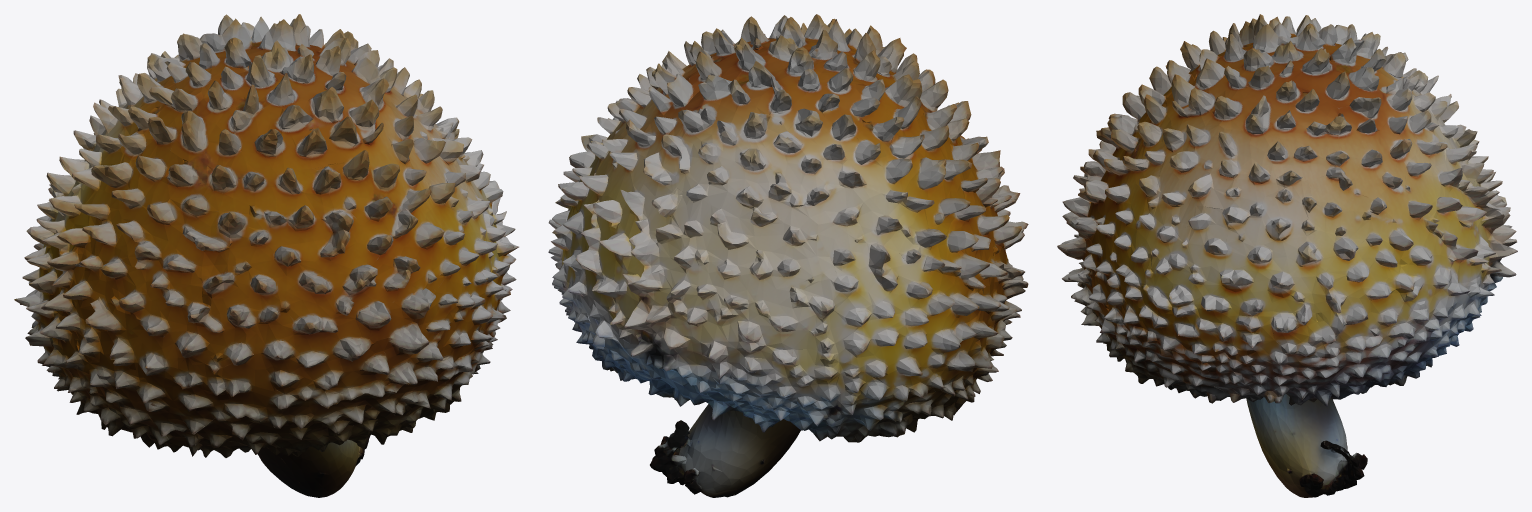
3 renders of one model, left to right at view 1: azimuth 30°, elevation 25°; view 2: azimuth 150°, elevation 25°; view 3: azimuth 270°, elevation 25°, orthographic. The views are drawn at different scales.
Parts seen in each view (by area): view 1: world; view 2: world; view 3: world.
Part boxes in pixels (box(x1,y1,x2,y2)): world: box(14, 14, 518, 497); world: box(548, 14, 1028, 497); world: box(1057, 14, 1517, 497).
Size of the model in its own units: 0.9597 by 0.9887 by 0.9534.
Materials: 1 (1 with a texture image).
